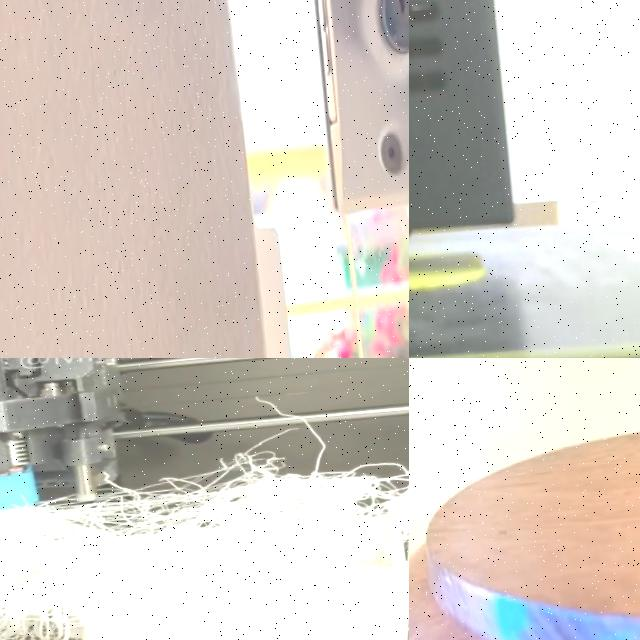spaghetti: (0, 422, 409, 640)
